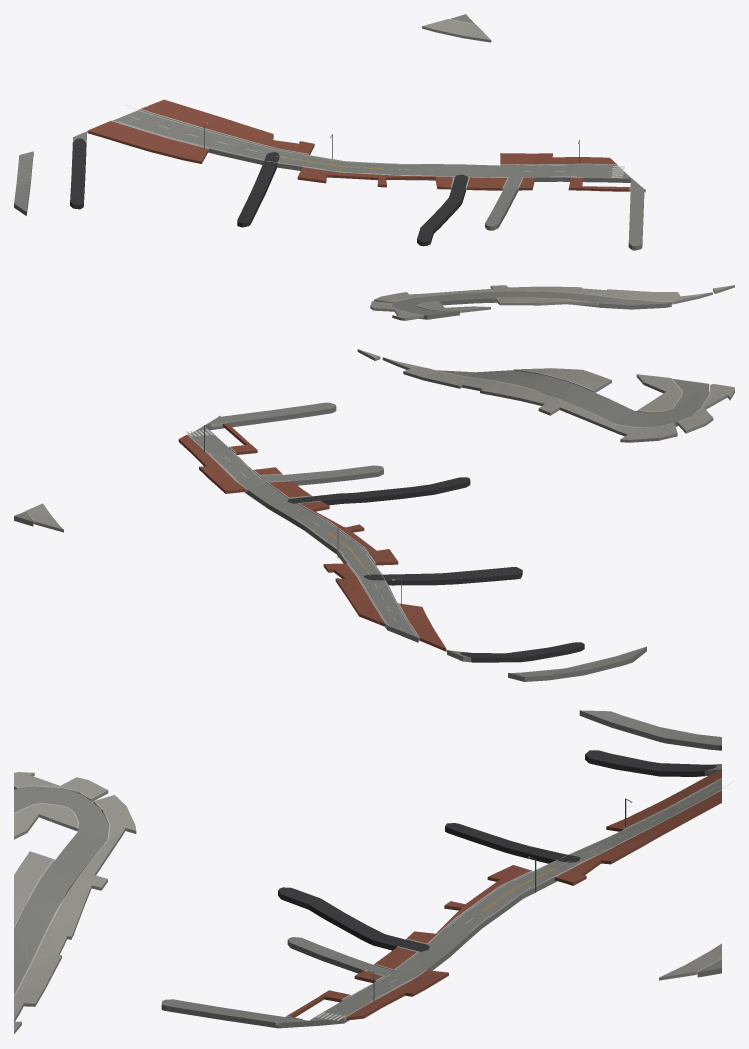
3 views of the same model, one above another, from view 1: azimuth 30°, elevation 25°; view 2: azimuth 150°, elevation 25°; view 3: azimuth 270°, elevation 25° (orthographic). The views are drawn at different scales.
Size of the model in its own units: 148 by 18.35 by 148.
